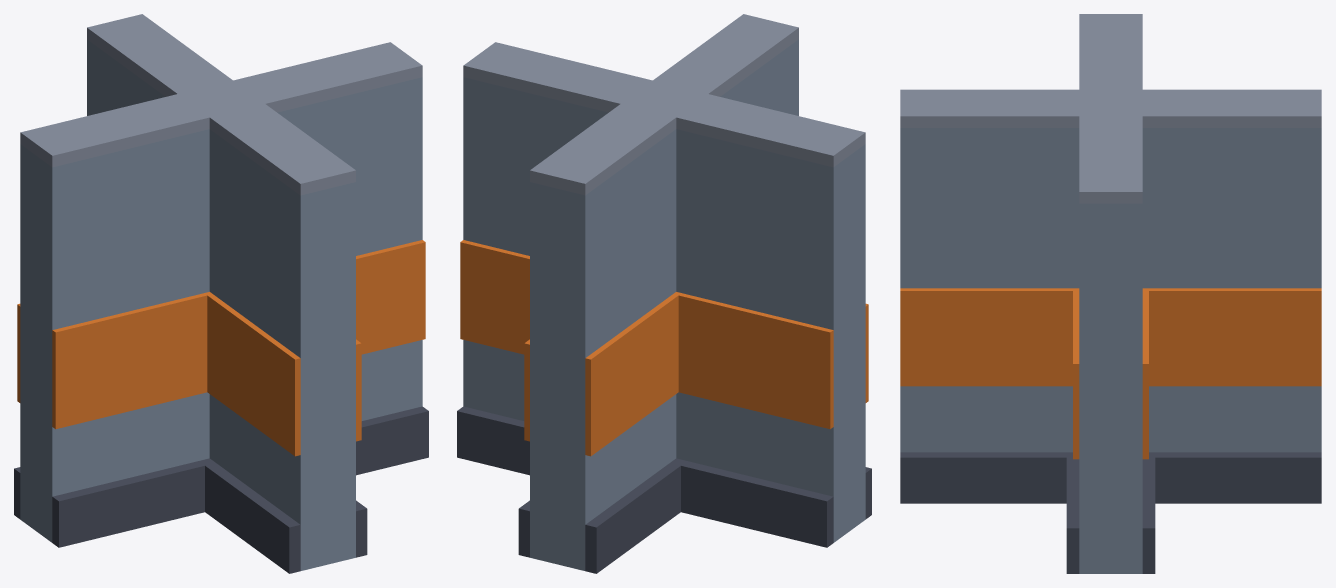
File: partition-full-cross.glb
3 renders of one model, left to right at view 1: azimuth 30°, elevation 25°; view 2: azimuth 150°, elevation 25°; view 3: azimuth 270°, elevation 25°, orthographic.
Visible parts, largest first — view 1: partition-full-cross; view 2: partition-full-cross; view 3: partition-full-cross.
Boxes of the visible parts, x1,y1,x2,y2 form: partition-full-cross: (14,14,428,573); partition-full-cross: (457,14,871,573); partition-full-cross: (900,14,1321,573).
Size of the model in its own units: 1 by 1 by 1.
1 material, 1 textured.
